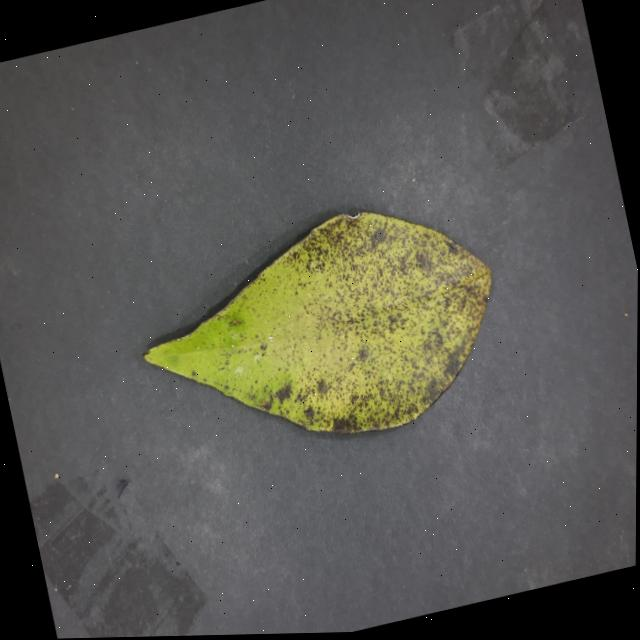greasy_spot: (143, 212, 489, 432)
